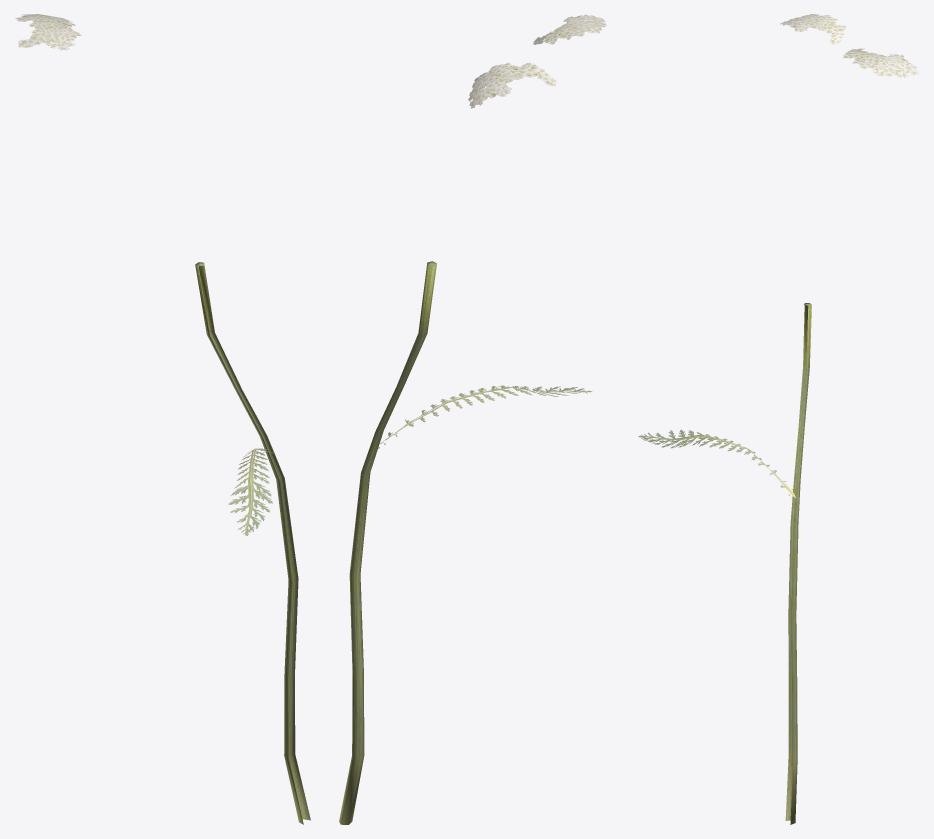
File: flower_white_lod2.glb
The picture shows the model from 3 angles, left to right: view 1: azimuth 30°, elevation 25°; view 2: azimuth 150°, elevation 25°; view 3: azimuth 270°, elevation 25°; orthographic projection. The views are drawn at different scales.
Parts seen in each view (by area): view 1: bq_Flower_Achillea-millefolium_D_spring-summer; view 2: bq_Flower_Achillea-millefolium_D_spring-summer; view 3: bq_Flower_Achillea-millefolium_D_spring-summer.
Boxes of the visible parts, left/top/right/bottom form: bq_Flower_Achillea-millefolium_D_spring-summer: left=15, top=14, right=310, bottom=824; bq_Flower_Achillea-millefolium_D_spring-summer: left=339, top=14, right=606, bottom=824; bq_Flower_Achillea-millefolium_D_spring-summer: left=638, top=14, right=918, bottom=824.
Size of the model in its own units: 0.1044 by 0.314 by 0.1147.
3 materials, 3 textured.
